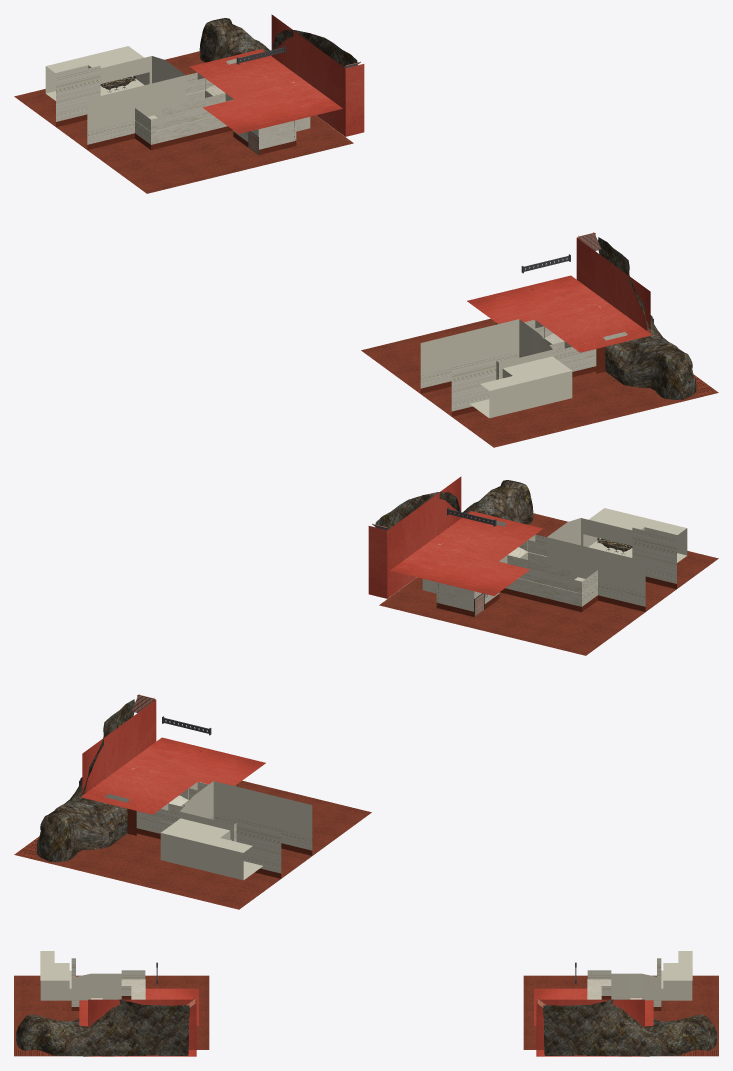
The model's file is Subterraneo.obj.
3 renders of one model, top to bottom at view 1: azimuth 30°, elevation 25°; view 2: azimuth 150°, elevation 25°; view 3: azimuth 270°, elevation 25°, orthographic. The views are drawn at different scales.
Parts seen in each view (by area): view 1: Subterraneo; view 2: Subterraneo; view 3: Subterraneo.
Boxes of the visible parts, box(x1,y1,x2,y2) form: Subterraneo: box(14, 14, 718, 447); Subterraneo: box(14, 476, 718, 909); Subterraneo: box(14, 951, 718, 1056).
Bounding box in the file's own units: 36.67 × 12.42 × 135.
Materials: 15 (15 with a texture image).
